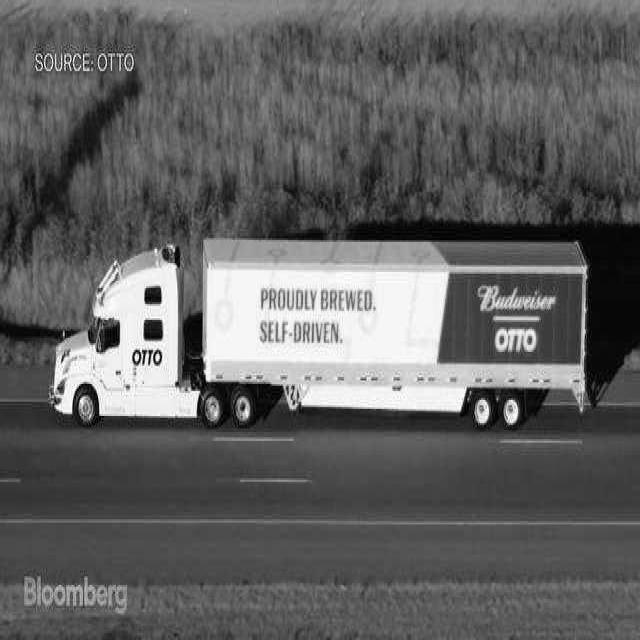Truck: (50, 238, 588, 427)
